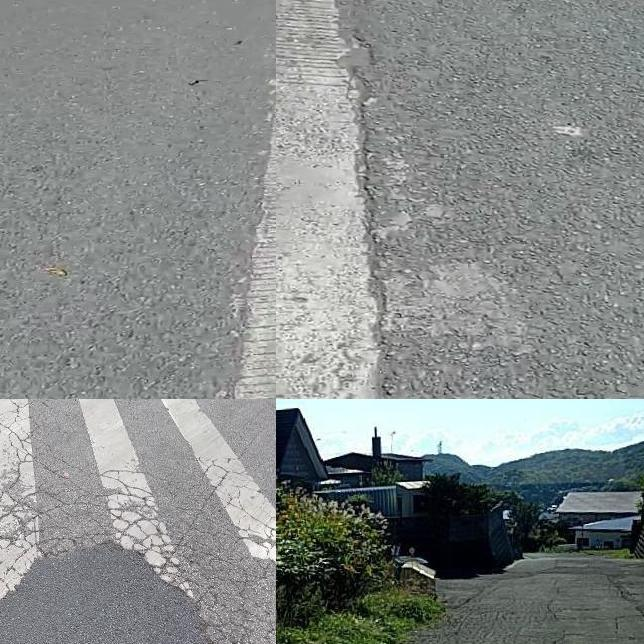Sambungan: (276, 0, 413, 399), (0, 545, 209, 644)
